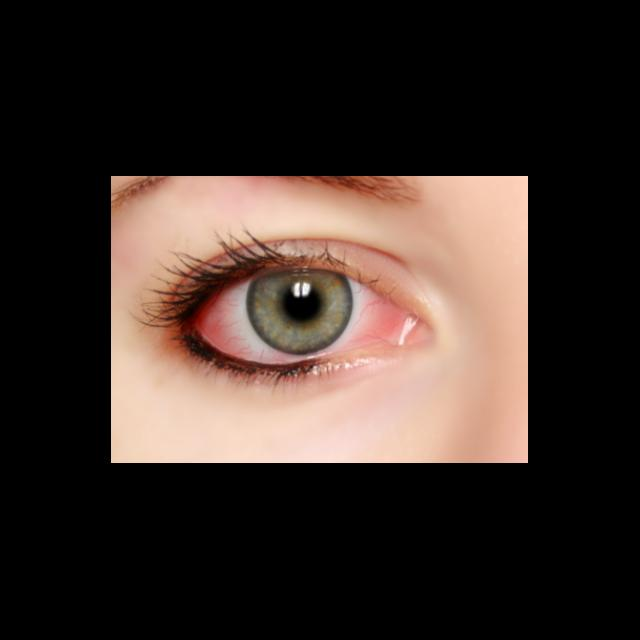eye: (196, 269, 396, 365)
iris: (247, 271, 354, 356)
